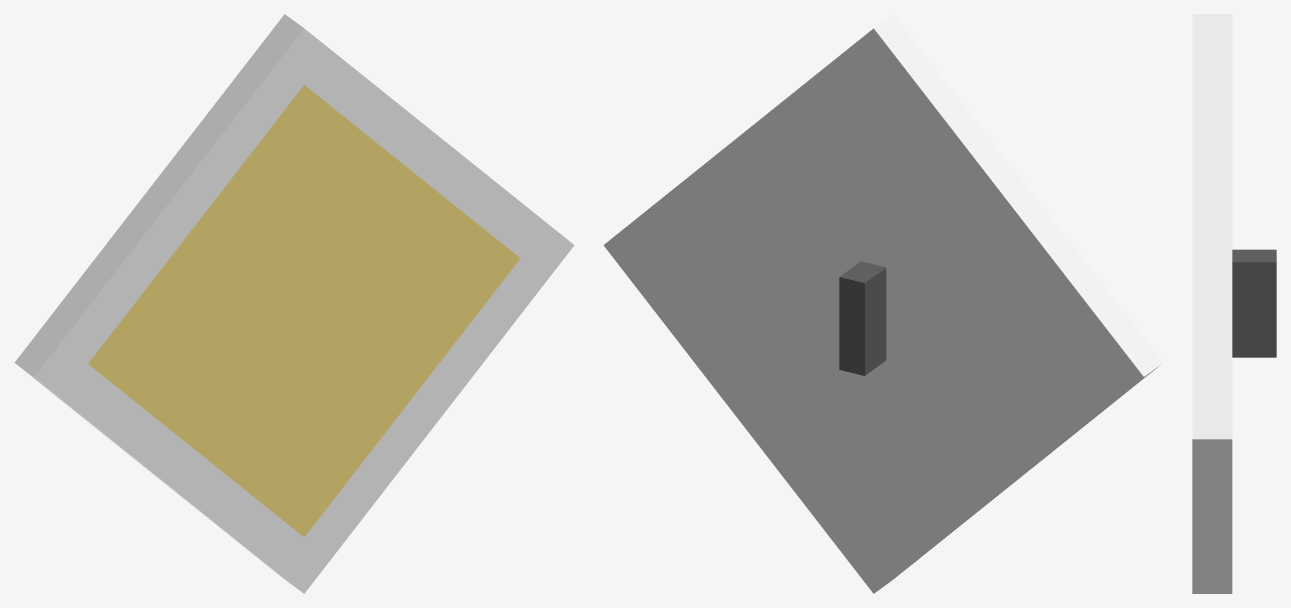
File: Road_Sign_7.fbx
3 renders of one model, left to right at view 1: azimuth 30°, elevation 25°; view 2: azimuth 150°, elevation 25°; view 3: azimuth 270°, elevation 25°, orthographic. The views are drawn at different scales.
Parts seen in each view (by area): view 1: Road_Sign_7; view 2: Road_Sign_7; view 3: Road_Sign_7.
Part boxes in pixels (<box>): Road_Sign_7: <box>14,14,574,593</box>; Road_Sign_7: <box>603,14,1163,593</box>; Road_Sign_7: <box>1192,14,1276,593</box>.
Size of the model in its own units: 1.43 by 1.43 by 0.1879.
Materials: 1 (1 with a texture image).
